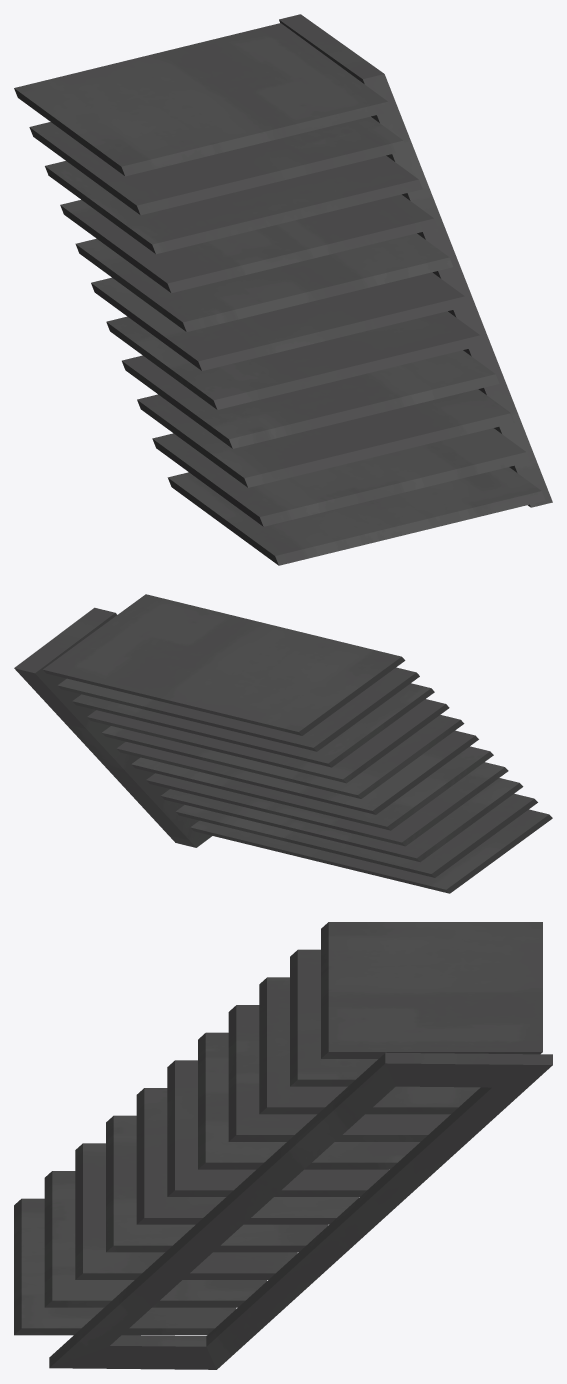
Rendered from En_W_stair2.fbx.
The picture shows the model from 3 angles, top to bottom: view 1: azimuth 30°, elevation 25°; view 2: azimuth 150°, elevation 25°; view 3: azimuth 270°, elevation 25°; orthographic projection. The views are drawn at different scales.
Visible parts, largest first — view 1: En_W_stair2; view 2: En_W_stair2; view 3: En_W_stair2.
Boxes of the visible parts, x1,y1,x2,y2 form: En_W_stair2: [14, 14, 552, 565]; En_W_stair2: [14, 594, 552, 893]; En_W_stair2: [14, 922, 552, 1369].
Size of the model in its own units: 200 by 201 by 321.
